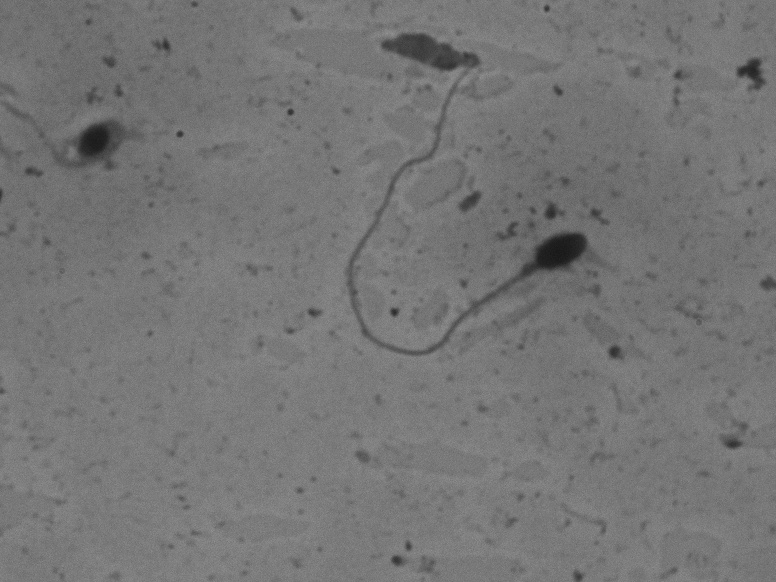Normal: (311, 59, 625, 366)
